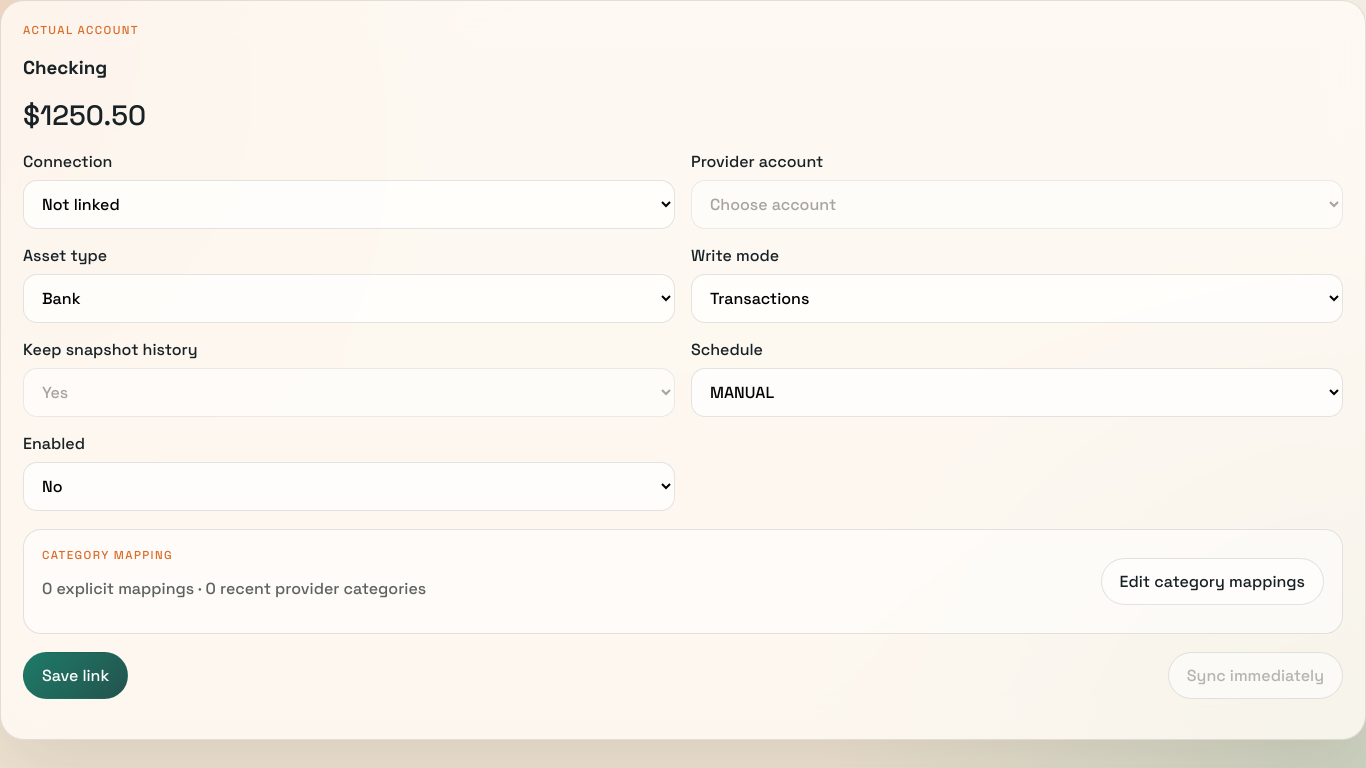
Scenario: AccountCard › shows a helpful error instead of submitting an incomplete link
The width and height of the screenshot is (1366, 768).
Select "Plaid B" in the dropdown labelled "Connection": point(349, 205) [23, 180, 675, 229]
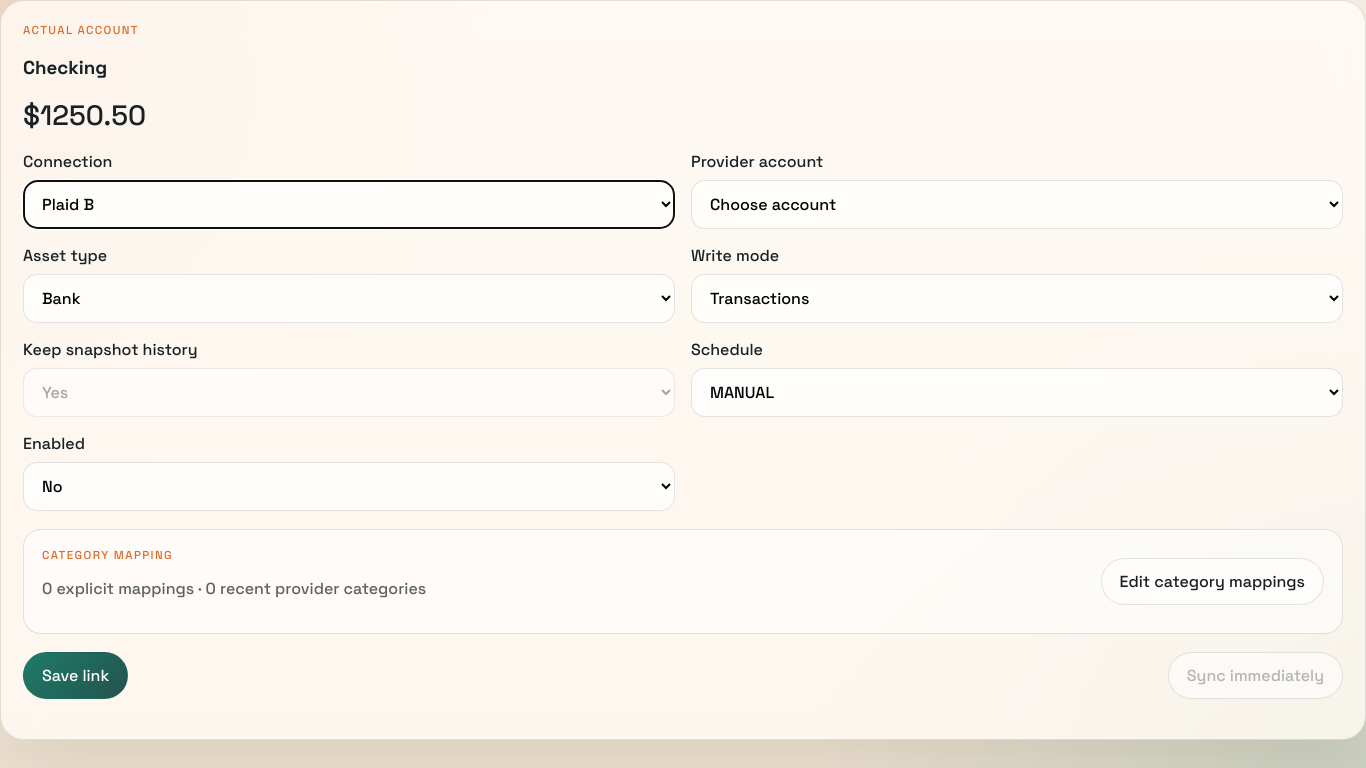
Click the button "Save link": point(76, 676) [23, 652, 128, 699]
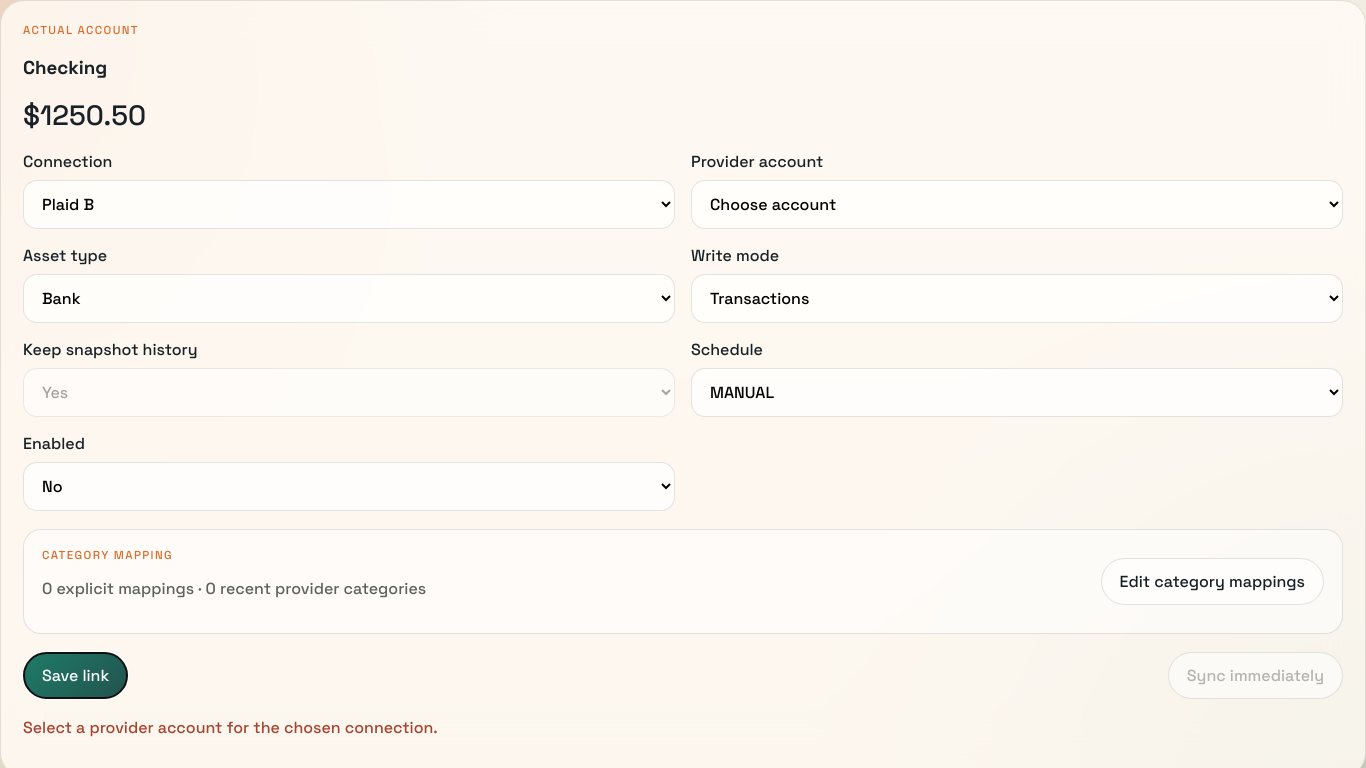
Now the text "Select a provider account for the chosen connection." is shown, box [23, 717, 438, 738]
